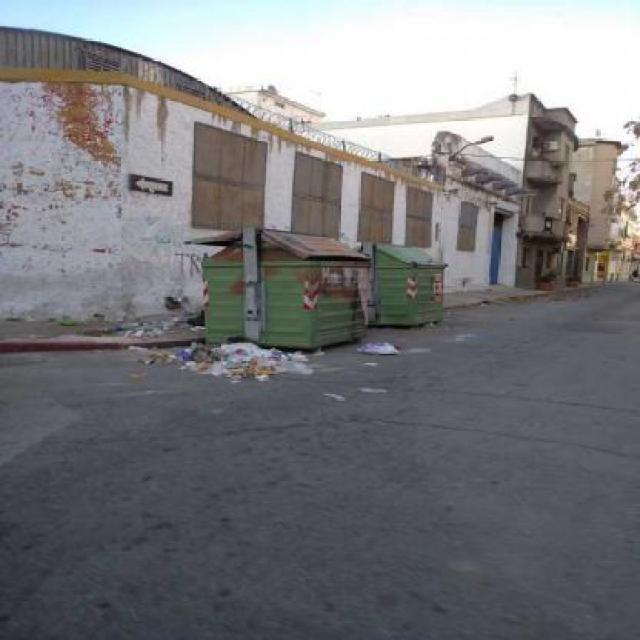garbage: (157, 329, 317, 374), (96, 316, 175, 357), (342, 337, 409, 357)
